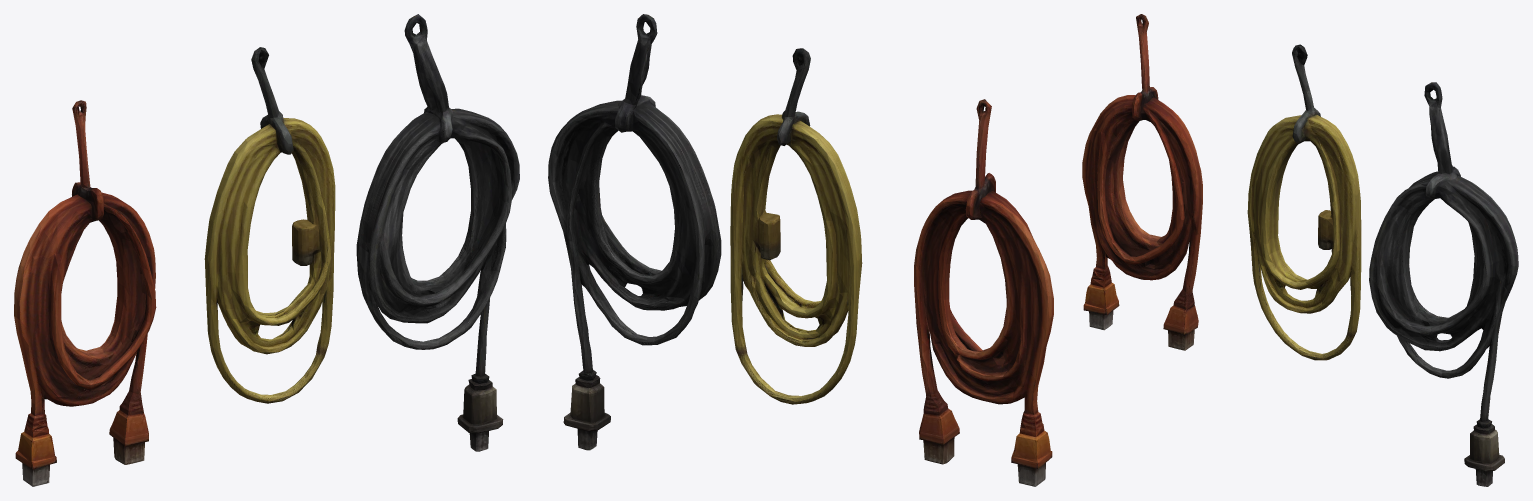
The model's file is extension_cords.glb.
The picture shows the model from 3 angles, left to right: view 1: azimuth 30°, elevation 25°; view 2: azimuth 150°, elevation 25°; view 3: azimuth 330°, elevation 25°; orthographic projection. The views are drawn at different scales.
Parts seen in each view (by area): view 1: geometry_0; view 2: geometry_0; view 3: geometry_0.
Boxes of the visible parts, x1=… form: geometry_0: x1=14, y1=14, x2=519, y2=486; geometry_0: x1=548, y1=14, x2=1053, y2=486; geometry_0: x1=1082, y1=14, x2=1518, y2=486.
Bounding box in the file's own units: 0.9987 × 0.8601 × 0.1073.
Materials: 1 (1 with a texture image).
